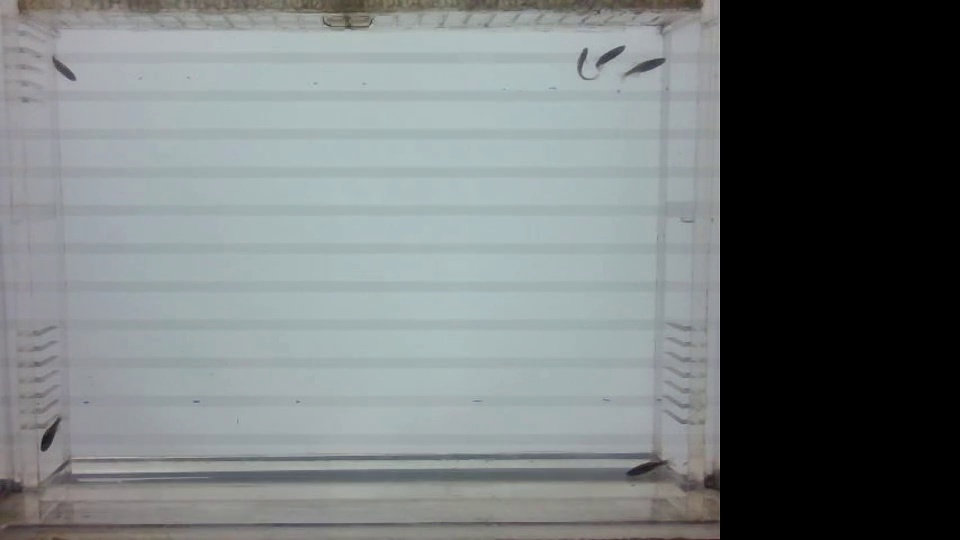fish: (44, 45, 81, 88), (626, 450, 668, 484), (616, 57, 668, 84), (588, 40, 626, 72), (37, 412, 66, 453), (574, 48, 596, 84)
